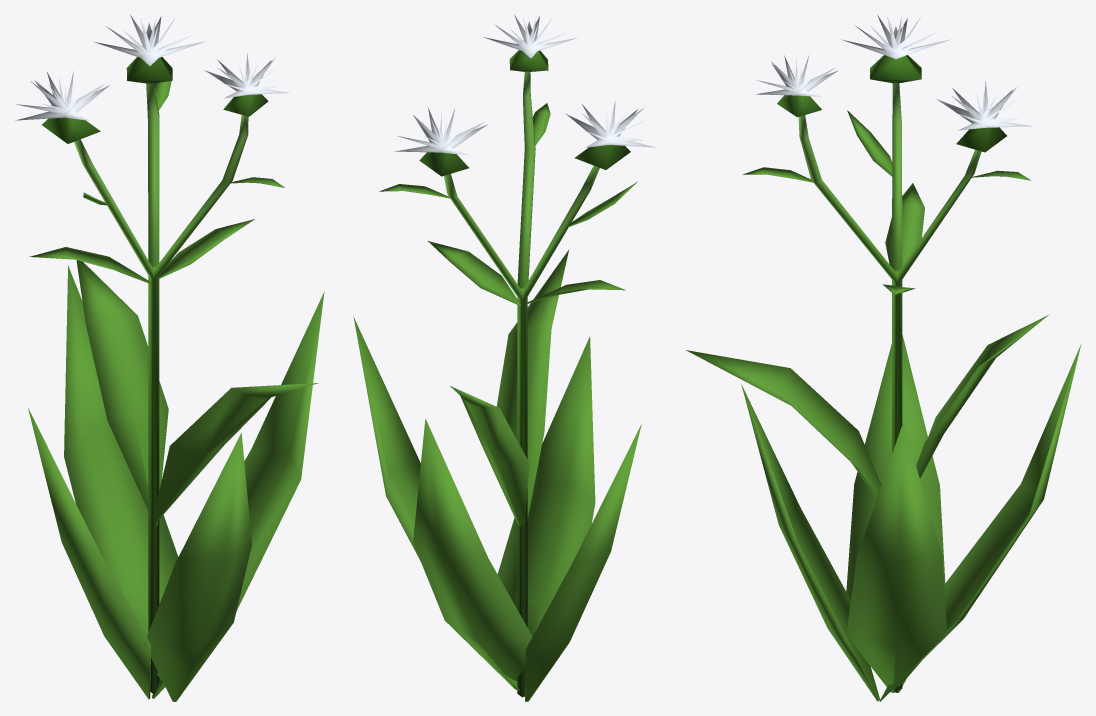
The picture shows the model from 3 angles, left to right: view 1: azimuth 30°, elevation 25°; view 2: azimuth 150°, elevation 25°; view 3: azimuth 270°, elevation 25°; orthographic projection. The views are drawn at different scales.
Visible parts, largest first — view 1: fp13; view 2: fp13; view 3: fp13.
Part boxes in pixels (x1,y1,x2,y2): fp13: [15, 15, 324, 701]; fp13: [353, 15, 655, 701]; fp13: [686, 14, 1081, 701].
Size of the model in its own units: 38.16 by 77.24 by 42.43.
